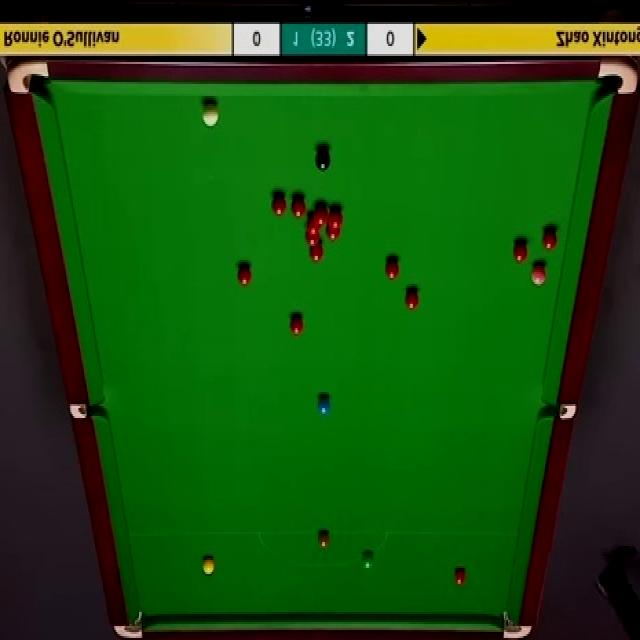black-ball: (315, 144, 331, 174)
blue-ball: (316, 394, 332, 416)
brown-ball: (317, 530, 330, 550)
green-ball: (361, 551, 374, 571)
pink-ball: (531, 262, 547, 288)
red-ball: (290, 192, 307, 220), (236, 261, 253, 288), (542, 228, 559, 251), (270, 194, 286, 218), (514, 240, 530, 264), (328, 205, 343, 230), (384, 256, 399, 280), (405, 288, 420, 312), (289, 314, 304, 336), (314, 205, 328, 227), (308, 246, 324, 263), (306, 216, 320, 234), (306, 232, 320, 248), (454, 568, 466, 584), (326, 227, 340, 240)
white-ball: (200, 98, 218, 127)
yellow-ball: (203, 554, 216, 575)
